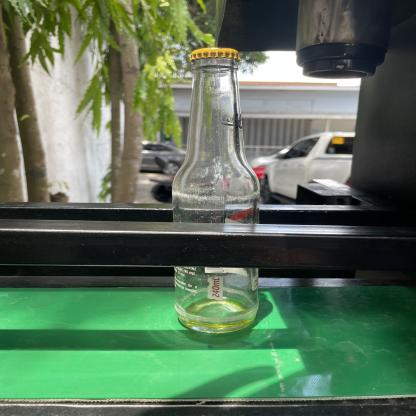Can: (169, 44, 267, 337)
